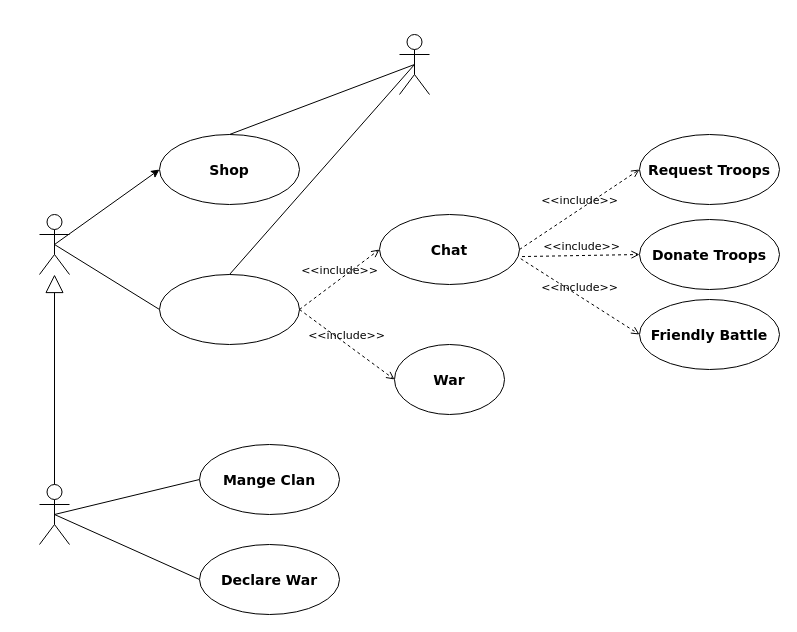
Some shapes in this 797 by 632 pixel diagram are drawn without their labels. The centre of each missing label's shape, as x and y in pixels:
"Clan" goes at (229,309).
"Clan Admins" goes at (54,514).
"Database" goes at (414,64).
"Player" goes at (54,244).
